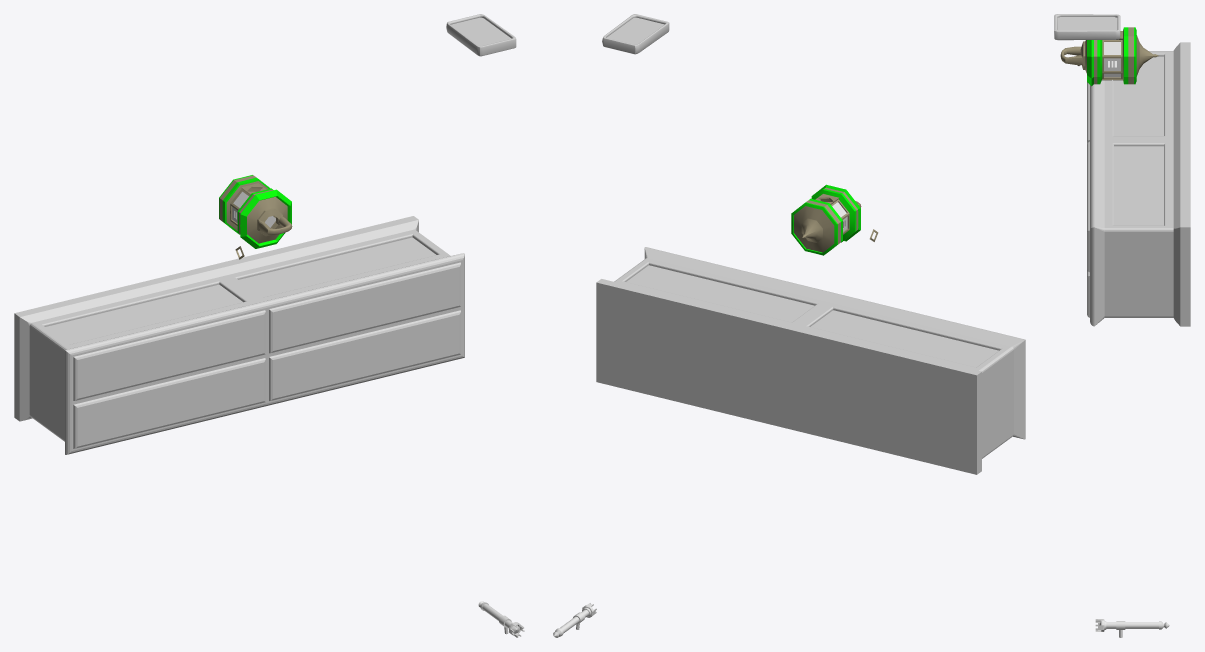
Rendered from GAT170_Models.fbx.
The picture shows the model from 3 angles, left to right: view 1: azimuth 30°, elevation 25°; view 2: azimuth 150°, elevation 25°; view 3: azimuth 270°, elevation 25°; orthographic projection. The views are drawn at different scales.
Visible parts, largest first — view 1: SM_Bench, SM_insense, SM_Tablet; view 2: SM_Bench, SM_insense, SM_Tablet; view 3: SM_Bench, SM_insense, SM_Tablet, SM_Torch.002.
Part boxes in pixels (x1,y1,x2,y2): SM_Bench: (14, 216, 464, 454); SM_insense: (219, 175, 292, 248); SM_Tablet: (446, 14, 516, 56); SM_Bench: (596, 247, 1025, 474); SM_insense: (791, 184, 861, 255); SM_Tablet: (602, 14, 669, 54); SM_Bench: (1087, 42, 1190, 326); SM_insense: (1060, 27, 1158, 86); SM_Tablet: (1054, 14, 1120, 40); SM_Torch.002: (1095, 619, 1169, 637).
Size of the model in its own units: 23051 by 30004 by 6228.
